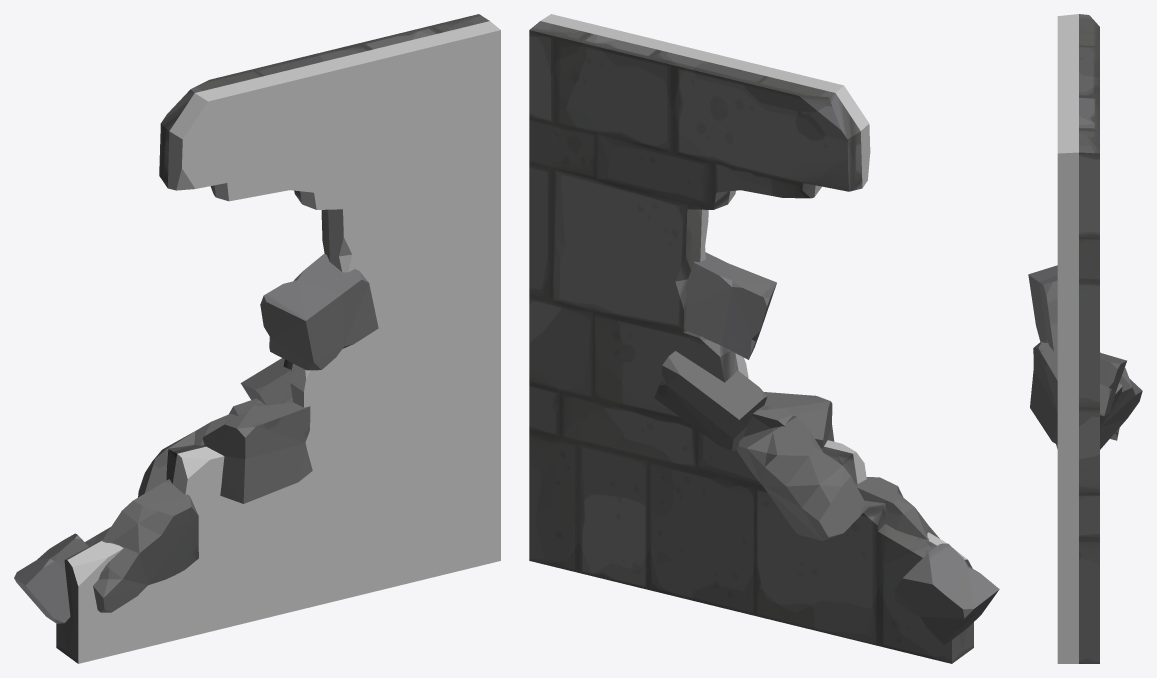
Rendered from SM_Bld_Wall_L_Damaged_06.fbx.
3 renders of one model, left to right at view 1: azimuth 30°, elevation 25°; view 2: azimuth 150°, elevation 25°; view 3: azimuth 270°, elevation 25°, orthographic. The views are drawn at different scales.
Visible parts, largest first — view 1: SM_Bld_Wall_L_Damaged_06; view 2: SM_Bld_Wall_L_Damaged_06; view 3: SM_Bld_Wall_L_Damaged_06.
Part boxes in pixels (left/top/right/bottom): SM_Bld_Wall_L_Damaged_06: left=14, top=14, right=500, bottom=663; SM_Bld_Wall_L_Damaged_06: left=529, top=14, right=999, bottom=663; SM_Bld_Wall_L_Damaged_06: left=1028, top=14, right=1142, bottom=663.
Size of the model in its own units: 546 by 601 by 122.
